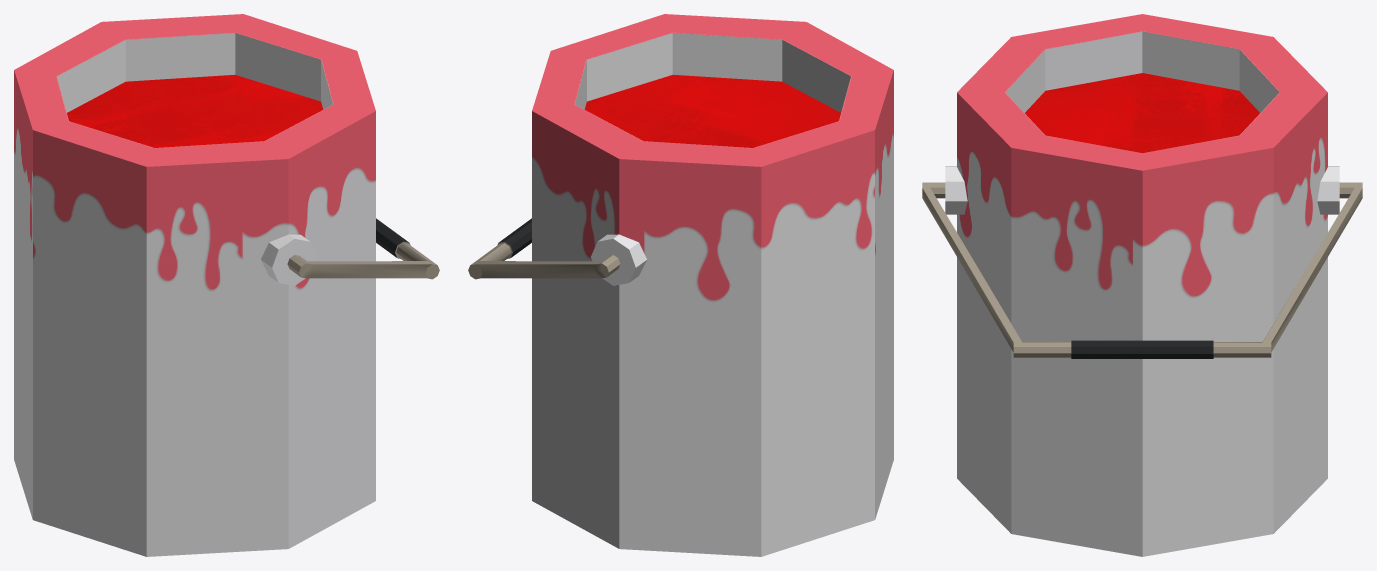
The model's file is paintcan.fbx.
3 renders of one model, left to right at view 1: azimuth 30°, elevation 25°; view 2: azimuth 150°, elevation 25°; view 3: azimuth 270°, elevation 25°, orthographic.
Parts seen in each view (by area): view 1: can_geo, paint_geo, handle_geo; view 2: can_geo, paint_geo, handle_geo; view 3: can_geo, paint_geo, handle_geo.
Part boxes in pixels (x1,y1,x2,y2): can_geo: (14, 14, 375, 556); paint_geo: (67, 74, 323, 147); handle_geo: (287, 218, 439, 279); can_geo: (532, 14, 893, 556); paint_geo: (584, 74, 840, 147); handle_geo: (468, 218, 620, 279); can_geo: (945, 14, 1339, 556); paint_geo: (1025, 73, 1259, 153); handle_geo: (922, 182, 1362, 358).
Bounding box in the file's own units: 5.08 × 5.52 × 5.7.
